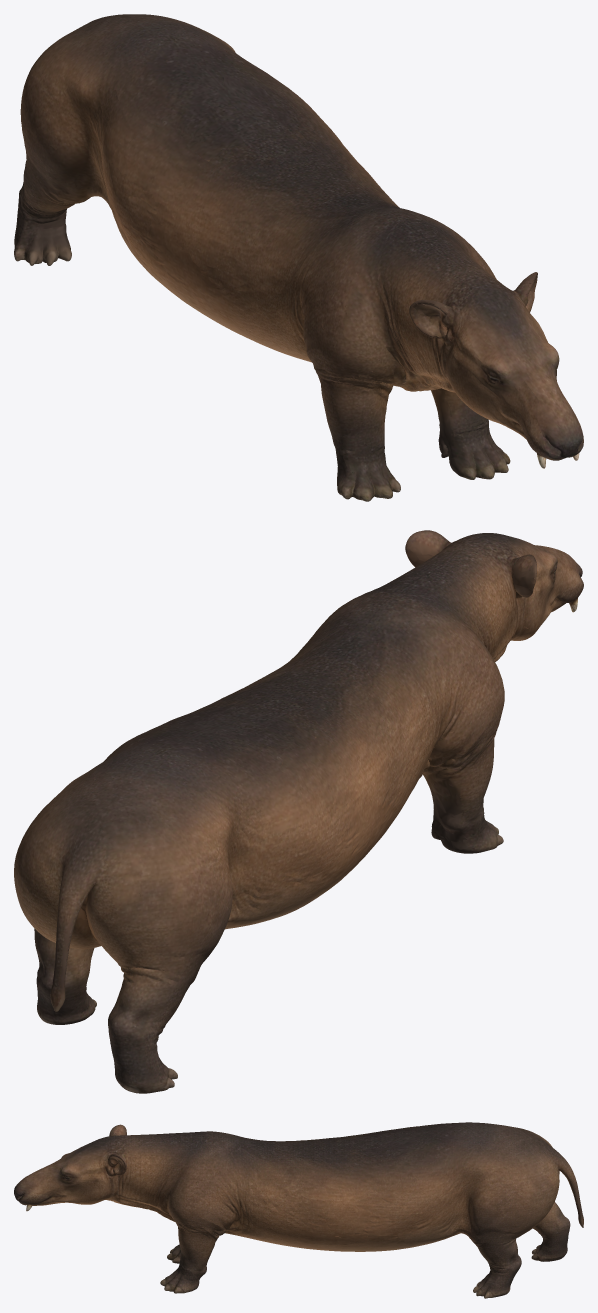
3 views of the same model, one above another, from view 1: azimuth 30°, elevation 25°; view 2: azimuth 150°, elevation 25°; view 3: azimuth 270°, elevation 25° (orthographic). The views are drawn at different scales.
Visible parts, largest first — view 1: Authored orientation; view 2: Authored orientation; view 3: Authored orientation.
Part boxes in pixels (<box>): Authored orientation: <box>14,14,583,501</box>; Authored orientation: <box>14,530,583,1093</box>; Authored orientation: <box>14,1122,583,1298</box>.
Bounding box in the file's own units: 0.5575 × 0.6429 × 2.3.
1 material, 1 textured.
